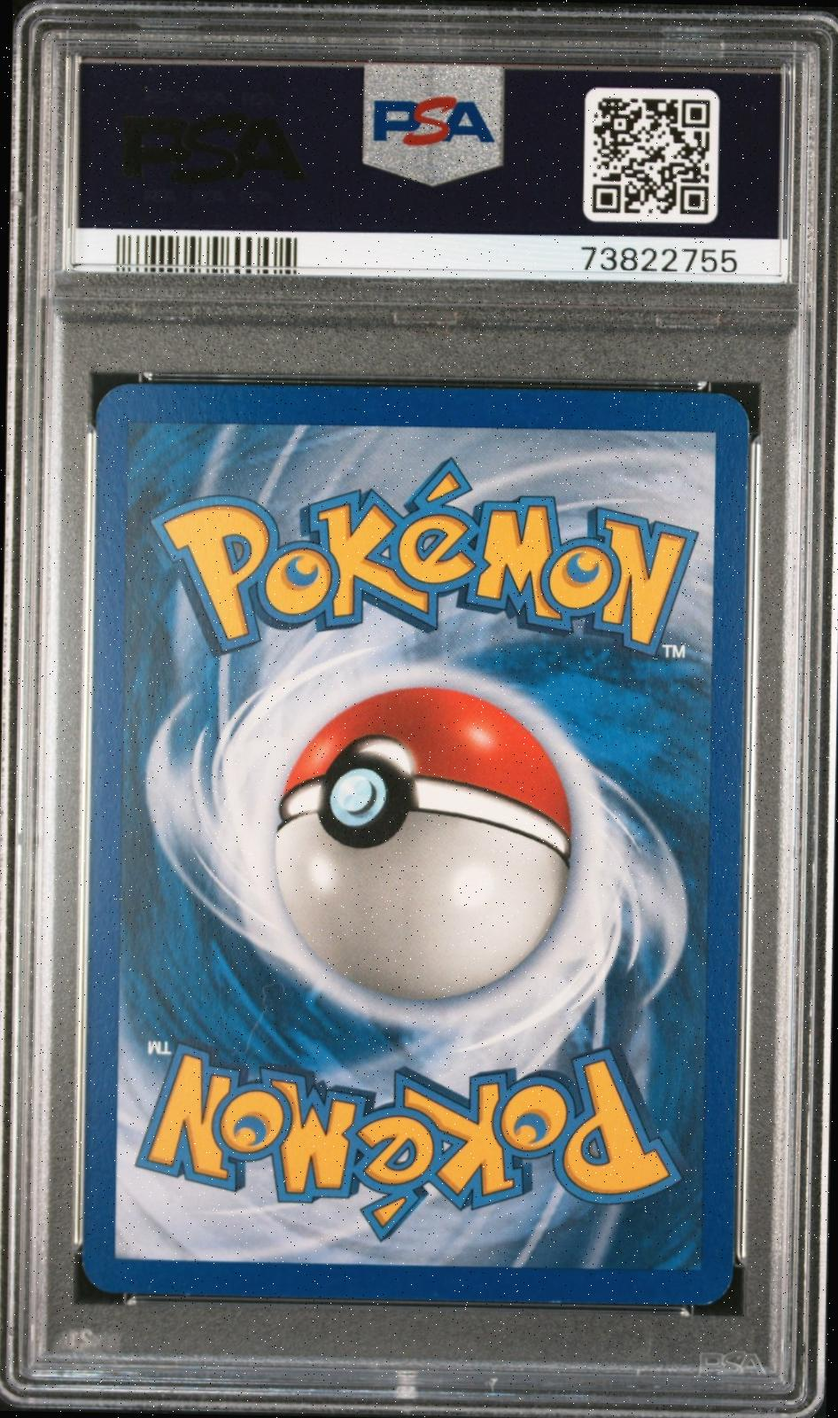card-2UtV: (81, 383, 750, 1306)
